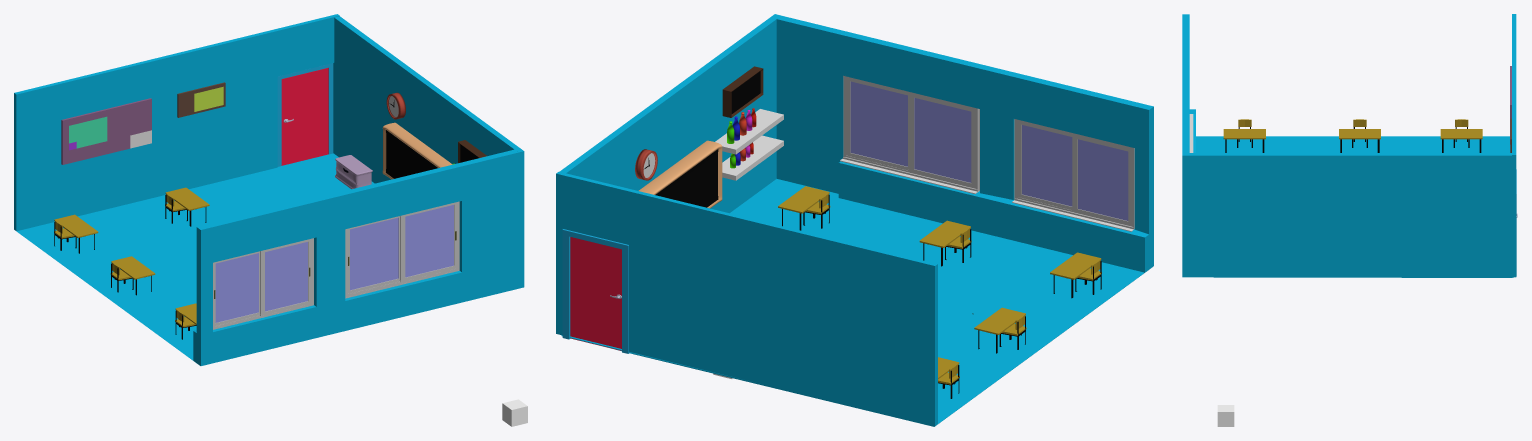
File: Finaleoriginal.glb
3 renders of one model, left to right at view 1: azimuth 30°, elevation 25°; view 2: azimuth 150°, elevation 25°; view 3: azimuth 270°, elevation 25°, orthographic. The views are drawn at different scales.
Visible parts, largest first — view 1: Plane.001, Cube.006, Door, Window.R.001, Window.L.001, Window.R, Cube.001, Window.L, Cube, Cube.005, DoorFrame, Cube.007 (+3 smaller); view 2: Plane.001, Window.L.001, Cube.001, Door, Window.R.001, Window.L, Window.R, Cube, DoorFrame, Cube.002, WindowFrame.001, WindowFrame (+3 smaller); view 3: Plane.001, Cube.001, Cube.018.
Part boxes in pixels (x1,y1,x2,y2): Plane.001: [14, 14, 524, 365]; Cube.006: [61, 98, 151, 164]; Door: [281, 67, 328, 165]; Window.R.001: [399, 202, 456, 282]; Window.L.001: [348, 216, 399, 293]; Window.R: [260, 239, 310, 315]; Cube.001: [54, 187, 209, 339]; Window.L: [214, 251, 259, 326]; Cube: [382, 122, 452, 179]; Cube.005: [177, 82, 225, 117]; DoorFrame: [277, 63, 333, 166]; Cube.007: [335, 155, 372, 189]; Plane.001: [556, 14, 1153, 426]; Window.L.001: [908, 92, 975, 188]; Cube.001: [778, 186, 1101, 398]; Door: [570, 237, 621, 350]; Window.R.001: [846, 78, 908, 170]; Window.L: [1072, 134, 1132, 226]; Window.R: [1017, 121, 1072, 209]; Cube: [638, 140, 722, 208]; DoorFrame: [562, 229, 629, 353]; Cube.002: [722, 66, 763, 117]; WindowFrame.001: [843, 75, 979, 191]; WindowFrame: [1014, 119, 1134, 229]; Plane.001: [1182, 14, 1516, 277]; Cube.001: [1223, 119, 1482, 152]; Cube.018: [1217, 405, 1234, 426].
Bounding box in the file's own units: 42.97 × 34.64 × 40.25.
